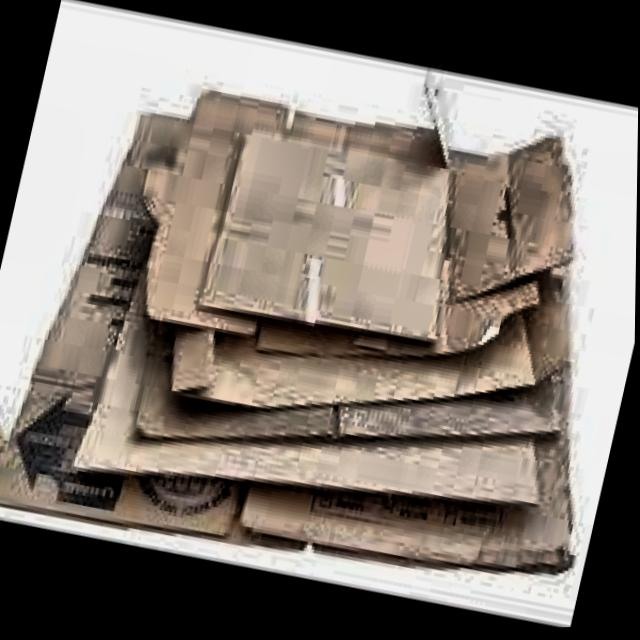Cardbox: (0, 17, 640, 630)
